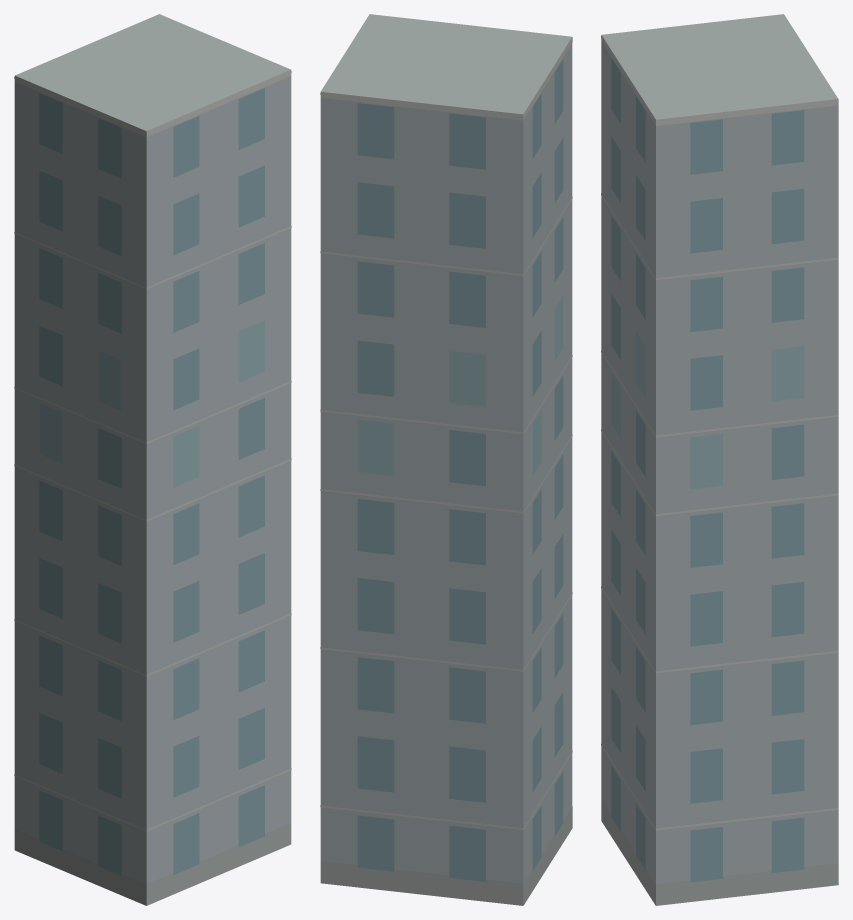
The model's file is survey-upis-32769022.glb.
The picture shows the model from 3 angles, left to right: view 1: azimuth 30°, elevation 25°; view 2: azimuth 150°, elevation 25°; view 3: azimuth 270°, elevation 25°; orthographic projection. The views are drawn at different scales.
Parts seen in each view (by area): view 1: survey-upis-32769022.tmp; view 2: survey-upis-32769022.tmp; view 3: survey-upis-32769022.tmp.
Part boxes in pixels (x1,y1,x2,y2): survey-upis-32769022.tmp: [14, 14, 291, 905]; survey-upis-32769022.tmp: [320, 14, 572, 905]; survey-upis-32769022.tmp: [601, 14, 838, 905].
Size of the model in its own units: 8.82 by 30.5 by 8.36.
